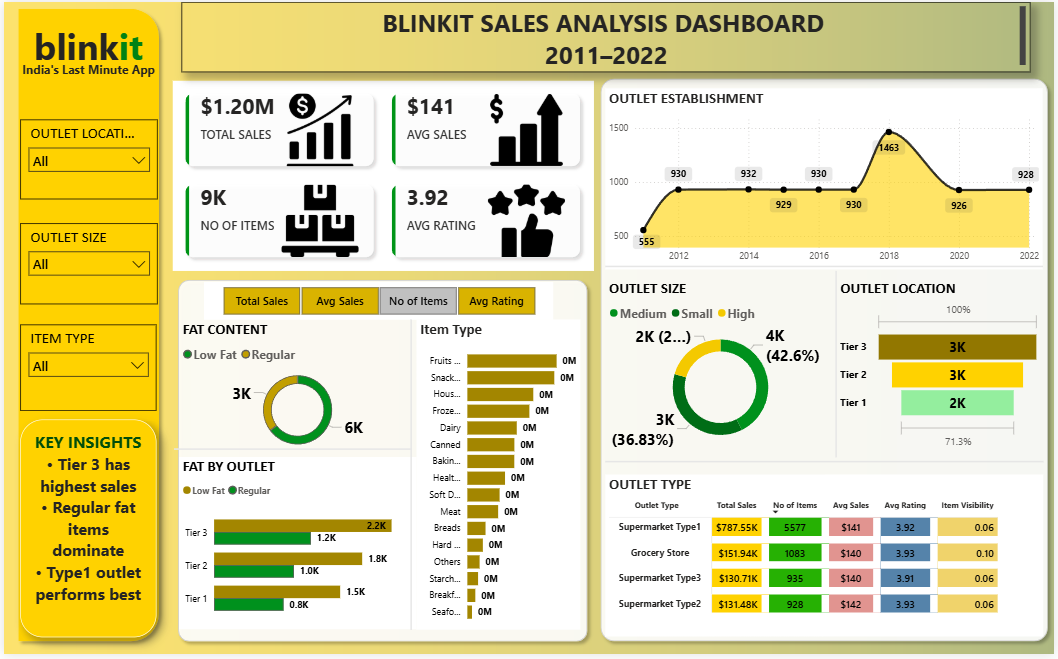

The page's visual inventory and layout, read from the dashboard file:
{"tool":"powerbi","page":{"name":"Dashboard ","canvas":[1400,870],"ordinal":0},"visuals":[{"type":"shape","box":[10.5,0,205.6,861.5],"z":0},{"type":"textbox","box":[31.5,19.5,162.1,75],"z":1000},{"type":"textbox","box":[10.5,73.5,205.6,42],"z":2000},{"type":"cardVisual","fields":{"Data":["Measures (2).Total Sales","Measures (2).Avg Sales","Measures (2).Number of Items","Measures (2).Avg Rating"]},"box":[225,105,561.7,253.3],"z":3000},{"type":"shape","box":[223.3,361.7,563.3,500],"z":4000},{"type":"slicer","fields":{"Values":["Metrics.Metrics"]},"box":[267.2,373.1,465.3,50],"z":5000},{"type":"donutChart","title":"FAT CONTENT","fields":{"Y":["Measures (2).Avg Rating"],"Category":["Grocery Data.Item Fat Content"]},"box":[232.6,422.6,316.7,184.6],"z":6000},{"type":"clusteredBarChart","title":"FAT BY OUTLET","fields":{"Y":["Measures (2).Avg Rating"],"Series":["Grocery Data.Item Fat Content"],"Category":["Grocery Data.Outlet Location Type"]},"box":[232.6,607.2,316.7,229.6],"z":7000},{"type":"barChart","title":"Item Type","fields":{"Y":["Measures (2).Avg Rating"],"Category":["Grocery Data.Item Type"]},"box":[550,423.3,218.3,413.3],"z":8000},{"type":"shape","box":[226.7,590,316.7,12.2],"z":9000},{"type":"shape","box":[479,423,129,414],"z":10000},{"type":"shape","box":[786,94,614,768],"z":11000},{"type":"lineChart","title":"OUTLET ESTABLISHMENT","fields":{"Y":["Measures (2).Avg Rating"],"Category":["Grocery Data.Outlet Establishment Year"]},"box":[801.7,115,583.3,241.7],"z":12000},{"type":"shape","box":[801.8,346.4,583.6,11.8],"z":13000},{"type":"donutChart","title":"OUTLET SIZE","fields":{"Y":["Measures (2).Avg Rating"],"Category":["Grocery Data.Outlet Size"]},"box":[801.5,368,307.7,234.1],"z":14000},{"type":"shape","box":[801.1,606.7,584.4,12.2],"z":15000},{"type":"shape","box":[1044.4,357.8,128.9,248.9],"z":16000},{"type":"funnel","title":"OUTLET LOCATION","fields":{"Y":["Measures (2).Avg Rating"],"Category":["Grocery Data.Outlet Location Type"]},"box":[1110,368.3,276.7,233.3],"z":17000},{"type":"pivotTable","title":"OUTLET TYPE","fields":{"Rows":["Grocery Data.Outlet Type"],"Values":["Measures (2).Total Sales","Measures (2).No of Items","Measures (2).Avg Sales","Measures (2).Avg Rating","Avg(Grocery Data.Item Visibility)"]},"box":[802,630,584,216],"z":18000},{"type":"slicer","fields":{"Values":["Grocery Data.Outlet Location Type"]},"box":[21.7,156.7,183.3,106.7],"z":19000},{"type":"slicer","fields":{"Values":["Grocery Data.Outlet Size"]},"box":[21.7,295,183.3,108.3],"z":20000},{"type":"slicer","fields":{"Values":["Grocery Data.Item Type"]},"box":[21.7,430,181.7,115],"z":21000},{"type":"textbox","box":[236.7,0,1131.7,93.3],"z":22000},{"type":"textbox","box":[21.7,556.7,181.7,290],"z":23000}]}

Visuals, with their boxes in screenshot pixels (x1, y1, x2, y2), scaled from the page's 1400x870 canvas onto the 1058x659 screenshot:
shape: [left=8, top=0, right=163, bottom=653]
textbox: [left=24, top=15, right=146, bottom=72]
textbox: [left=8, top=56, right=163, bottom=87]
cardVisual - Measures (2).Total Sales x Measures (2).Avg Sales: [left=170, top=80, right=595, bottom=271]
shape: [left=169, top=274, right=594, bottom=653]
slicer - Metrics.Metrics: [left=202, top=283, right=554, bottom=320]
"FAT CONTENT" donutChart: [left=176, top=320, right=415, bottom=460]
"FAT BY OUTLET" clusteredBarChart: [left=176, top=460, right=415, bottom=634]
"Item Type" barChart: [left=416, top=321, right=581, bottom=634]
shape: [left=171, top=447, right=411, bottom=456]
shape: [left=362, top=320, right=459, bottom=634]
shape: [left=594, top=71, right=1057, bottom=653]
"OUTLET ESTABLISHMENT" lineChart: [left=606, top=87, right=1047, bottom=270]
shape: [left=606, top=262, right=1047, bottom=271]
"OUTLET SIZE" donutChart: [left=606, top=279, right=838, bottom=456]
shape: [left=605, top=460, right=1047, bottom=469]
shape: [left=789, top=271, right=887, bottom=460]
"OUTLET LOCATION" funnel: [left=839, top=279, right=1048, bottom=456]
"OUTLET TYPE" pivotTable: [left=606, top=477, right=1047, bottom=641]
slicer - Grocery Data.Outlet Location Type: [left=16, top=119, right=155, bottom=200]
slicer - Grocery Data.Outlet Size: [left=16, top=223, right=155, bottom=305]
slicer - Grocery Data.Item Type: [left=16, top=326, right=154, bottom=413]
textbox: [left=179, top=0, right=1034, bottom=71]
textbox: [left=16, top=422, right=154, bottom=641]
